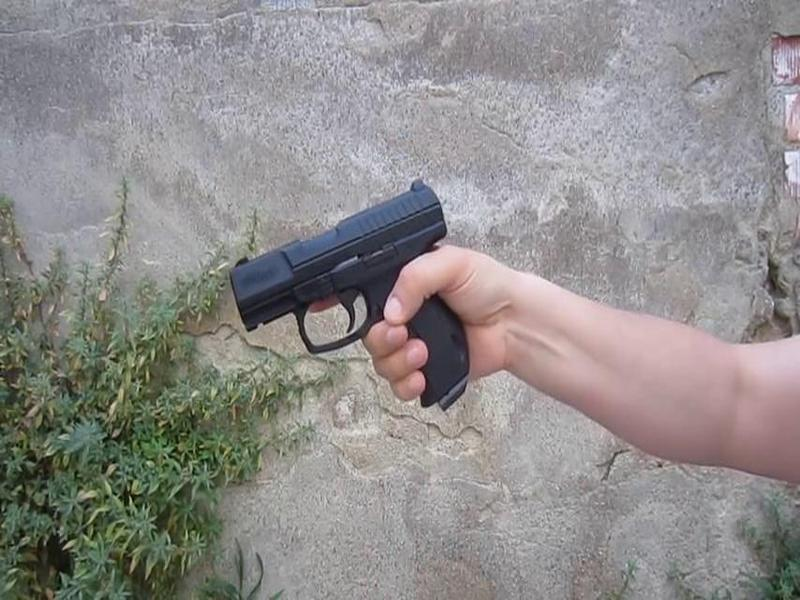Pistola: (207, 179, 477, 418)
